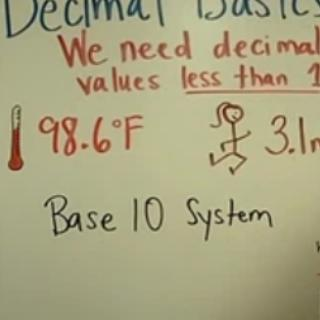.: (79, 138, 90, 153), (287, 144, 296, 157)
0: (143, 193, 165, 232)
1: (131, 197, 140, 234)
3: (264, 114, 289, 156)
6: (91, 115, 112, 154)
8: (60, 113, 80, 159)
9: (35, 113, 62, 156)
